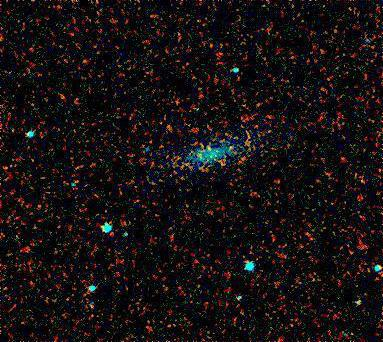star: (206, 134, 236, 164)
